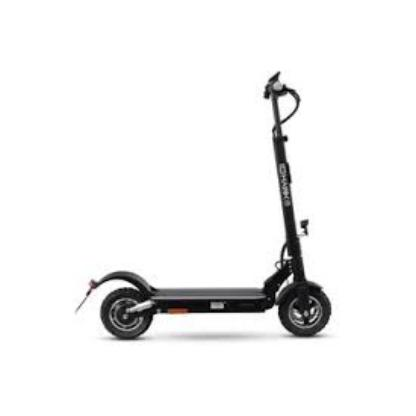bike: (73, 80, 332, 340)
car: (75, 219, 332, 341)
